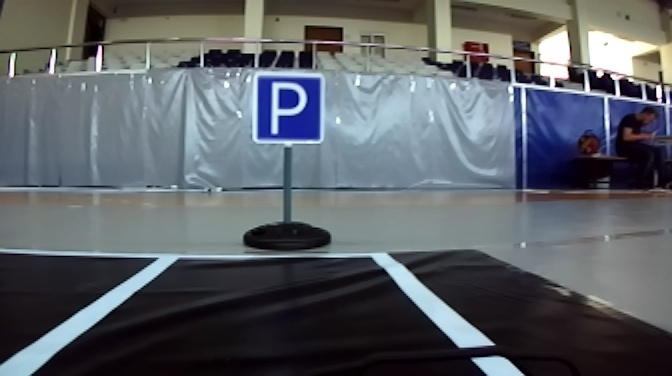park: (252, 69, 323, 142)
